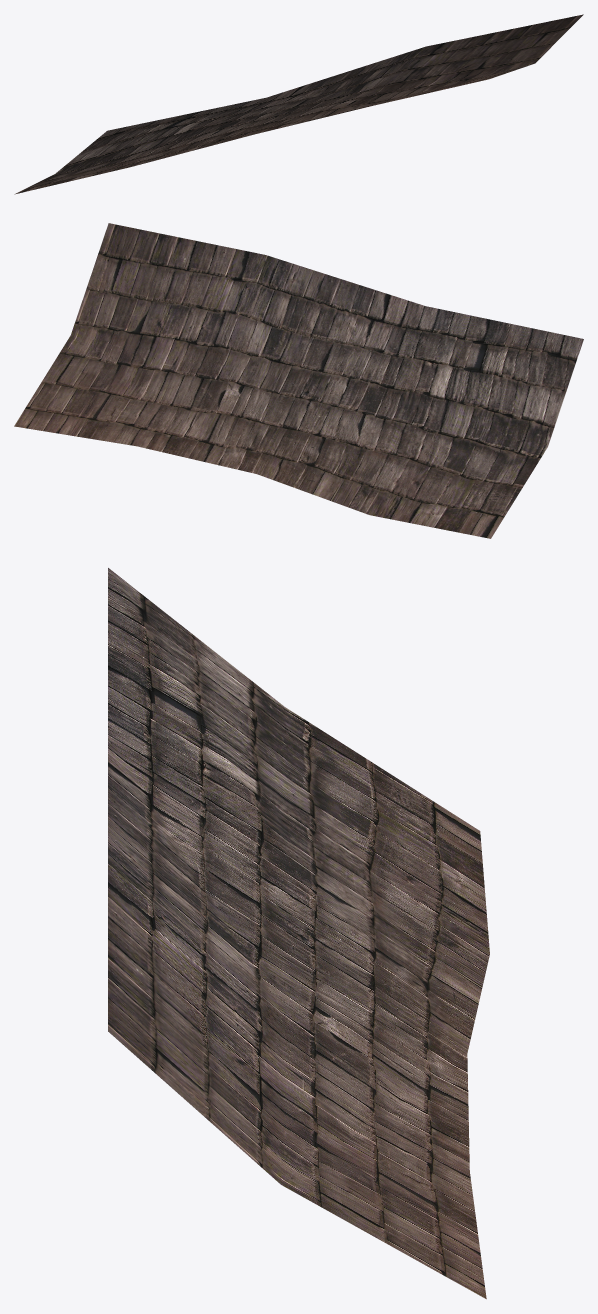
File: roof_upper_left.fbx
The picture shows the model from 3 angles, top to bottom: view 1: azimuth 30°, elevation 25°; view 2: azimuth 150°, elevation 25°; view 3: azimuth 270°, elevation 25°; orthographic projection. The views are drawn at different scales.
Parts seen in each view (by area): view 1: polySurface306; view 2: polySurface306; view 3: polySurface306.
Part boxes in pixels (x1,y1,x2,y2): polySurface306: [14, 14, 583, 194]; polySurface306: [14, 223, 583, 538]; polySurface306: [108, 568, 489, 1299].
Size of the model in its own units: 970 by 272 by 332.
